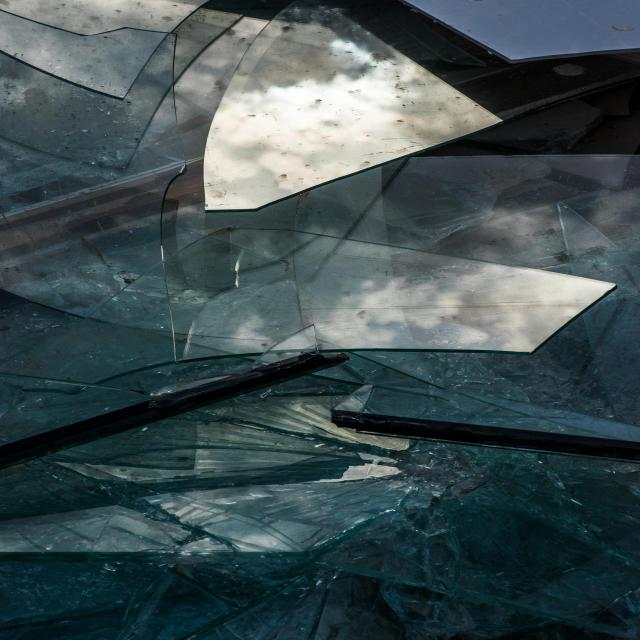electronic: (101, 439, 640, 640)
